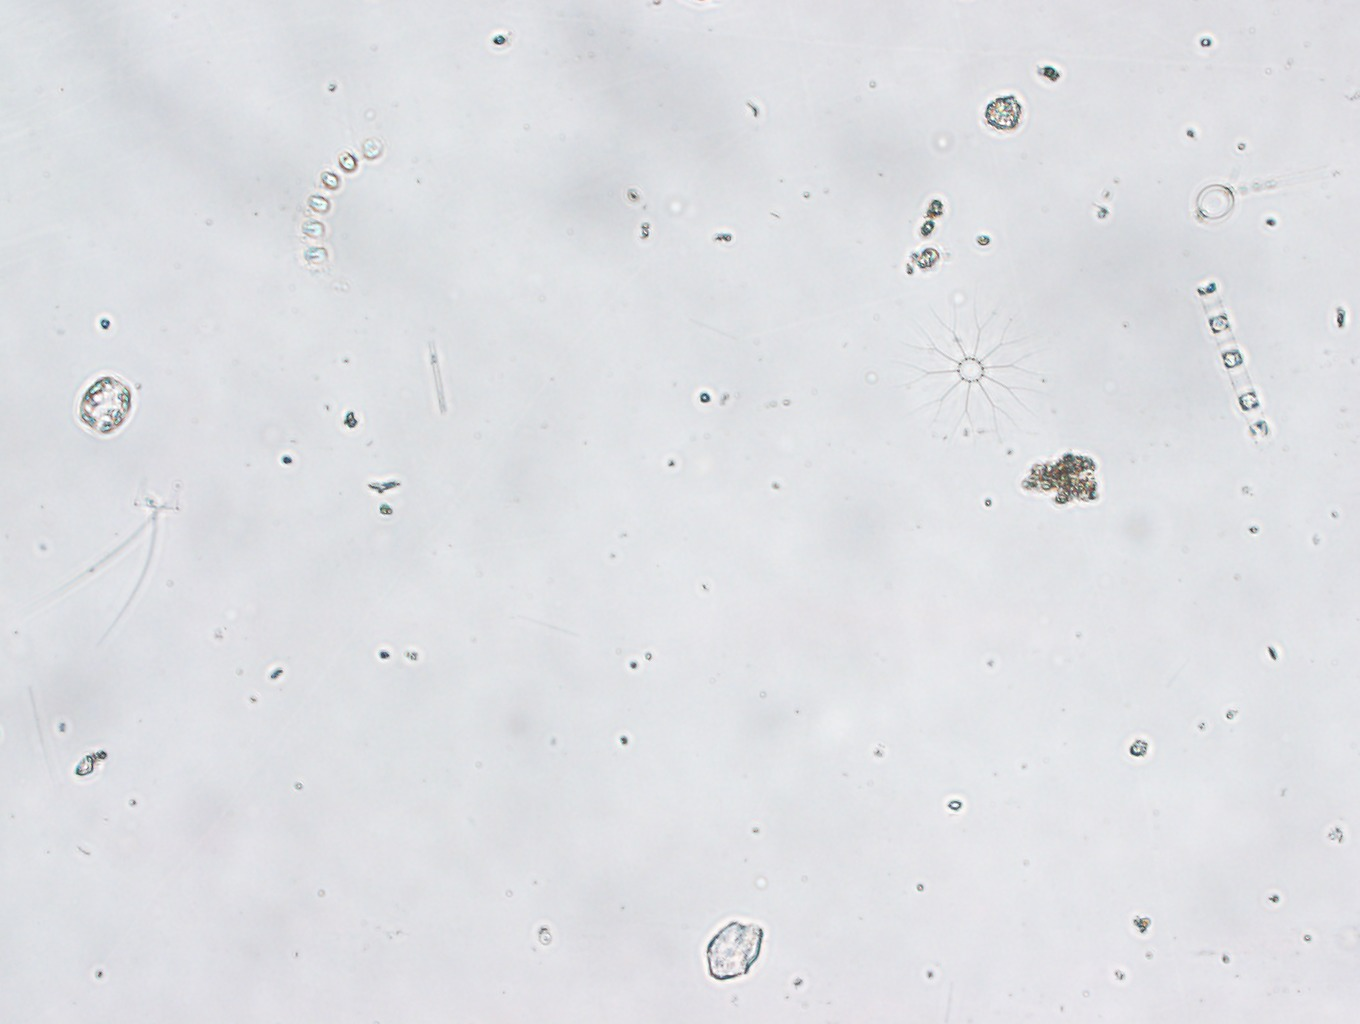bacteriastrum: (890, 291, 1053, 452)
skeletonema: (299, 134, 384, 291), (1197, 280, 1273, 449)
